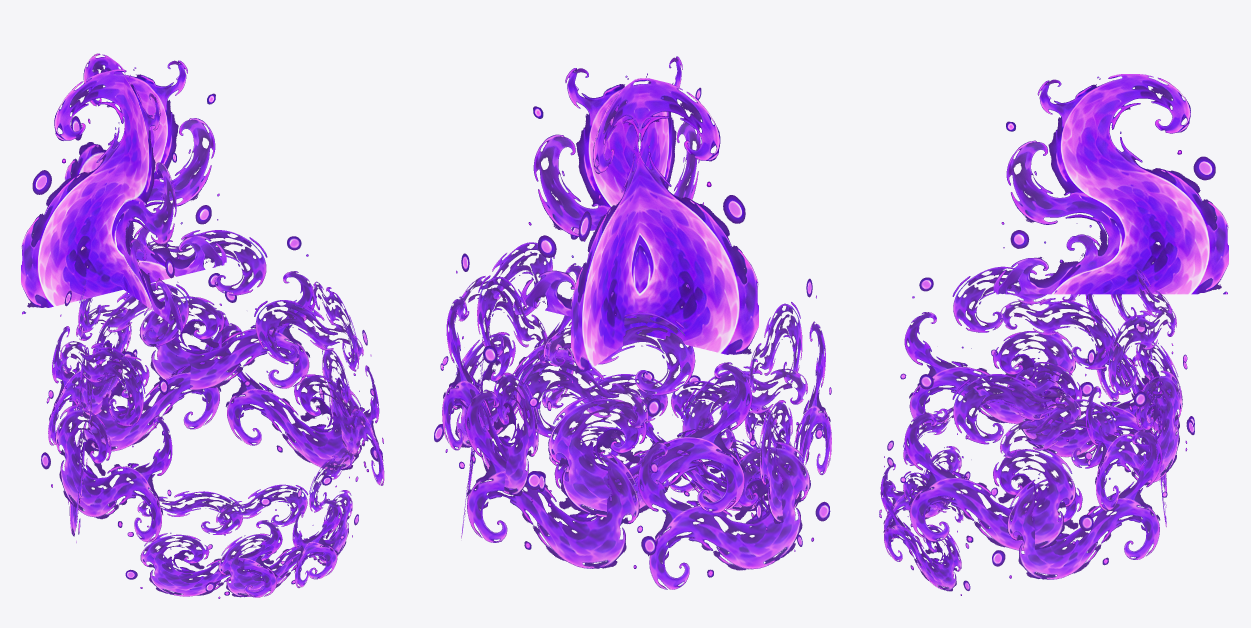
File: Bleep_Smoke.fbx
3 views of the same model, side by side, from view 1: azimuth 30°, elevation 25°; view 2: azimuth 150°, elevation 25°; view 3: azimuth 270°, elevation 25° (orthographic). The views are drawn at different scales.
Parts seen in each view (by area): view 1: Bleep_SmokeTail_A, Bleep_SmokeWisp_4, Bleep_SmokeWisp_3, Bleep_SmokeWisp_5, Bleep_SmokeTail_B, Bleep_SmokeWisp_0, Bleep_SmokeWispF_0, Bleep_SmokeWispF_2, Bleep_SmokeWisp_6, Bleep_SmokeWisp_1, Bleep_SmokeWispF_1, Bleep_SmokeWisp_2; view 2: Bleep_SmokeTail_A, Bleep_SmokeWisp_1, Bleep_SmokeTail_B, Bleep_SmokeWisp_2, Bleep_SmokeWisp_0, Bleep_SmokeWisp_4, Bleep_SmokeWisp_3, Bleep_SmokeWisp_6, Bleep_SmokeWispF_2, Bleep_SmokeWispF_1, Bleep_SmokeWispF_0; view 3: Bleep_SmokeTail_B, Bleep_SmokeWisp_6, Bleep_SmokeWisp_5, Bleep_SmokeWisp_3, Bleep_SmokeWisp_4, Bleep_SmokeWisp_2, Bleep_SmokeWispF_1, Bleep_SmokeWisp_1, Bleep_SmokeWispF_0, Bleep_SmokeWisp_0.
Part boxes in pixels (x1,y1,x2,y2): Bleep_SmokeTail_A: (21, 60, 226, 314); Bleep_SmokeWisp_4: (121, 230, 319, 389); Bleep_SmokeWisp_3: (41, 341, 172, 542); Bleep_SmokeWisp_5: (219, 291, 382, 471); Bleep_SmokeTail_B: (64, 53, 182, 331); Bleep_SmokeWisp_0: (59, 273, 229, 451); Bleep_SmokeWispF_0: (125, 491, 285, 597); Bleep_SmokeWispF_2: (205, 476, 344, 598); Bleep_SmokeWisp_6: (312, 281, 384, 485); Bleep_SmokeWisp_1: (46, 284, 137, 445); Bleep_SmokeWispF_1: (291, 449, 358, 587); Bleep_SmokeWisp_2: (68, 326, 91, 542); Bleep_SmokeTail_A: (520, 68, 758, 362); Bleep_SmokeWisp_1: (527, 312, 756, 517); Bleep_SmokeTail_B: (571, 56, 703, 382); Bleep_SmokeWisp_2: (637, 366, 830, 589); Bleep_SmokeWisp_0: (459, 345, 657, 568); Bleep_SmokeWisp_4: (440, 253, 551, 502); Bleep_SmokeWisp_3: (748, 278, 831, 530); Bleep_SmokeWisp_6: (434, 227, 585, 452); Bleep_SmokeWispF_2: (632, 371, 776, 511); Bleep_SmokeWispF_1: (535, 374, 713, 492); Bleep_SmokeWispF_0: (725, 384, 802, 551); Bleep_SmokeTail_B: (993, 74, 1228, 294); Bleep_SmokeWisp_6: (900, 374, 1093, 550); Bleep_SmokeWisp_5: (991, 391, 1167, 579); Bleep_SmokeWisp_3: (900, 266, 1093, 426); Bleep_SmokeWisp_4: (1085, 307, 1194, 510); Bleep_SmokeWisp_2: (991, 298, 1162, 467); Bleep_SmokeWispF_1: (879, 457, 970, 595); Bleep_SmokeWisp_1: (1085, 270, 1194, 443); Bleep_SmokeWispF_0: (879, 407, 970, 538); Bleep_SmokeWisp_0: (1147, 319, 1166, 527).
Size of the model in its own units: 0.8663 by 1.23 by 0.8698.
